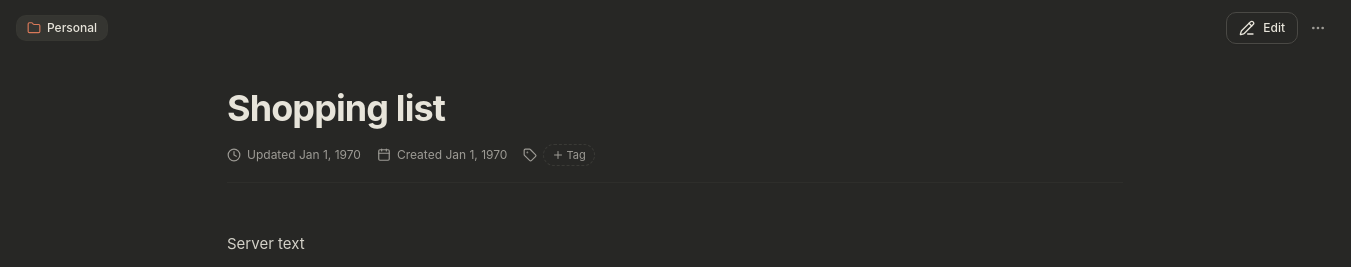
Test case: NoteViewer version history › offers the version history in the note menu, but not while editing
Press the mouse on the button named "More note actions": (1318, 28) [1302, 12, 1334, 44]
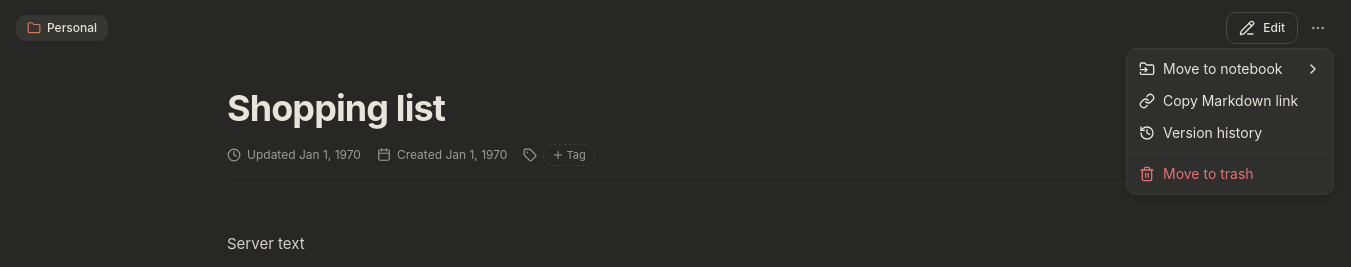
expect the menu item "Version history" is shown: met, box [1139, 124, 1262, 141]
